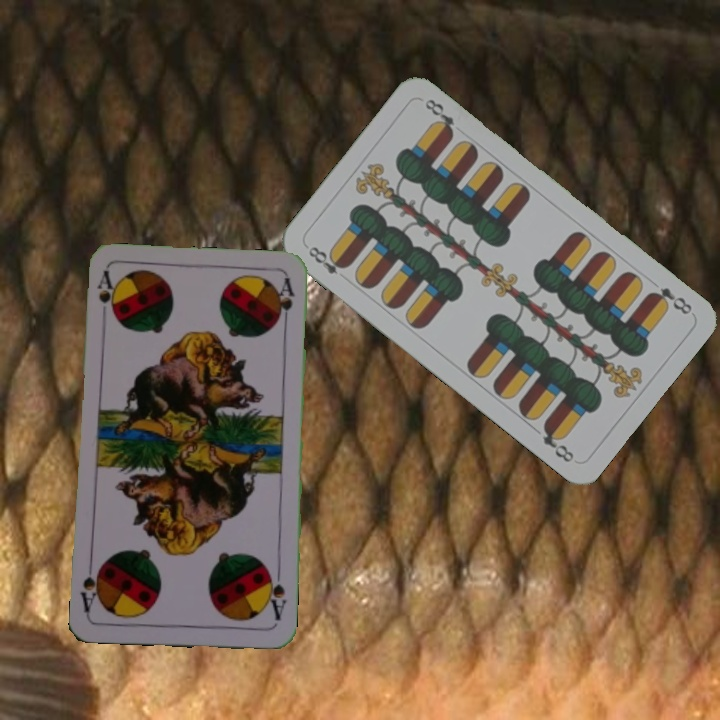E8: (644, 283, 695, 318), (304, 242, 351, 278)
SA: (262, 565, 289, 624), (92, 267, 118, 320)
